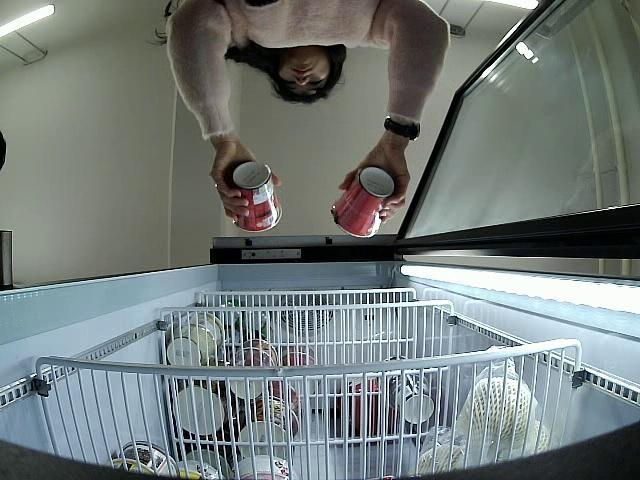02_shinRamen_S: (330, 164, 395, 239), (230, 159, 284, 234)
